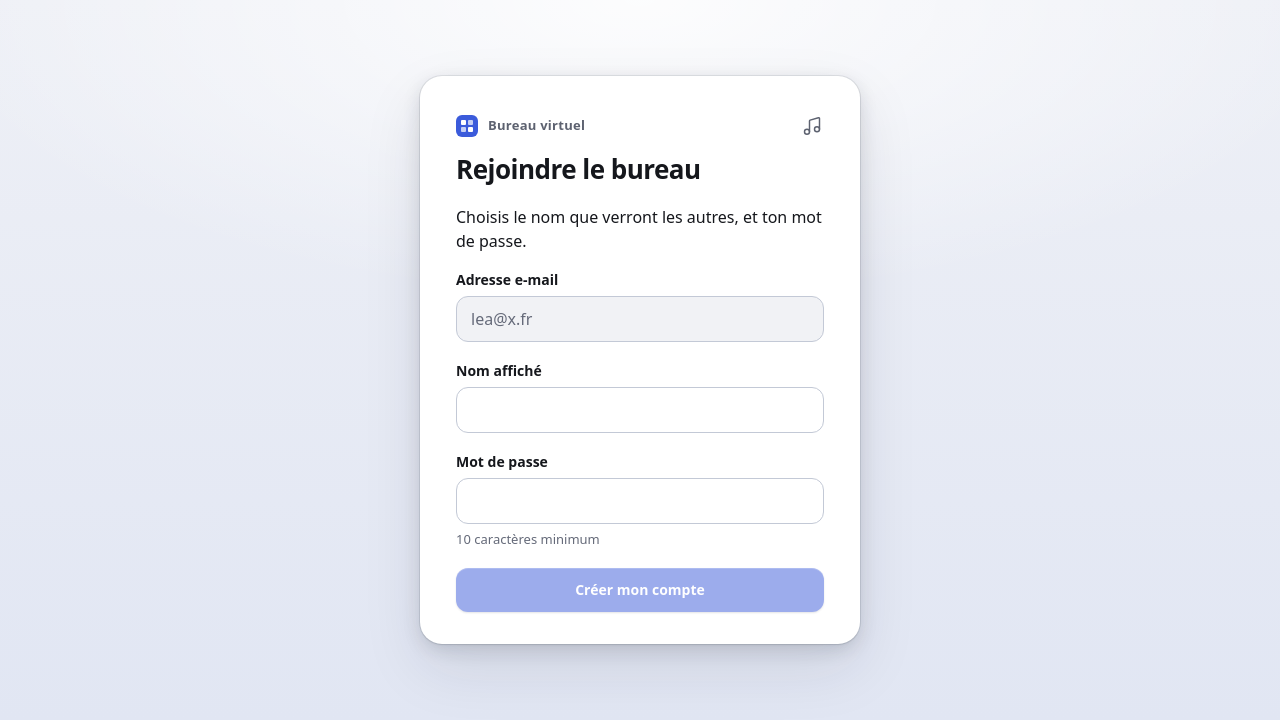
Test case: refus à la création du compte › 410 used (lien utilisé entre-temps, dans un autre onglet) → message fr.join.errors.used
The image size is (1280, 720).
In the field labelled "Nom affiché": (640, 410) [456,387,824,433], type "Léa"
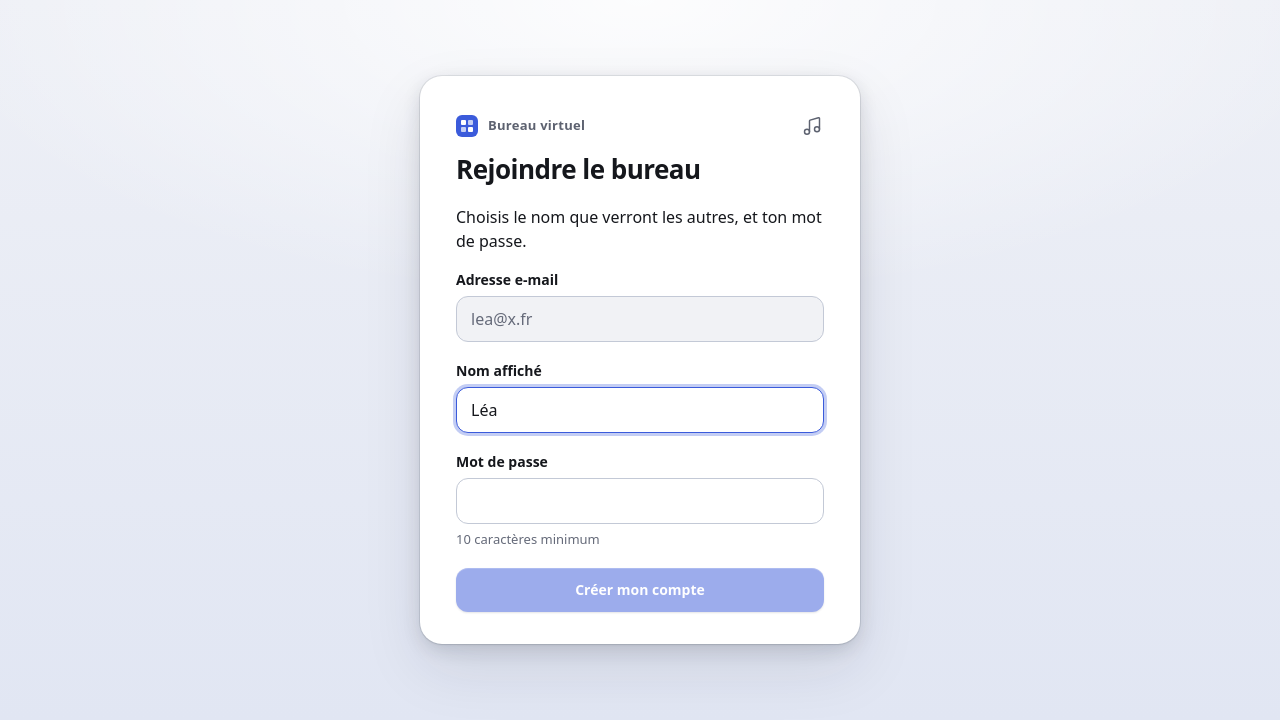
In the password field labelled "Mot de passe": (640, 501) [456,478,824,524], type "motdepasse1"
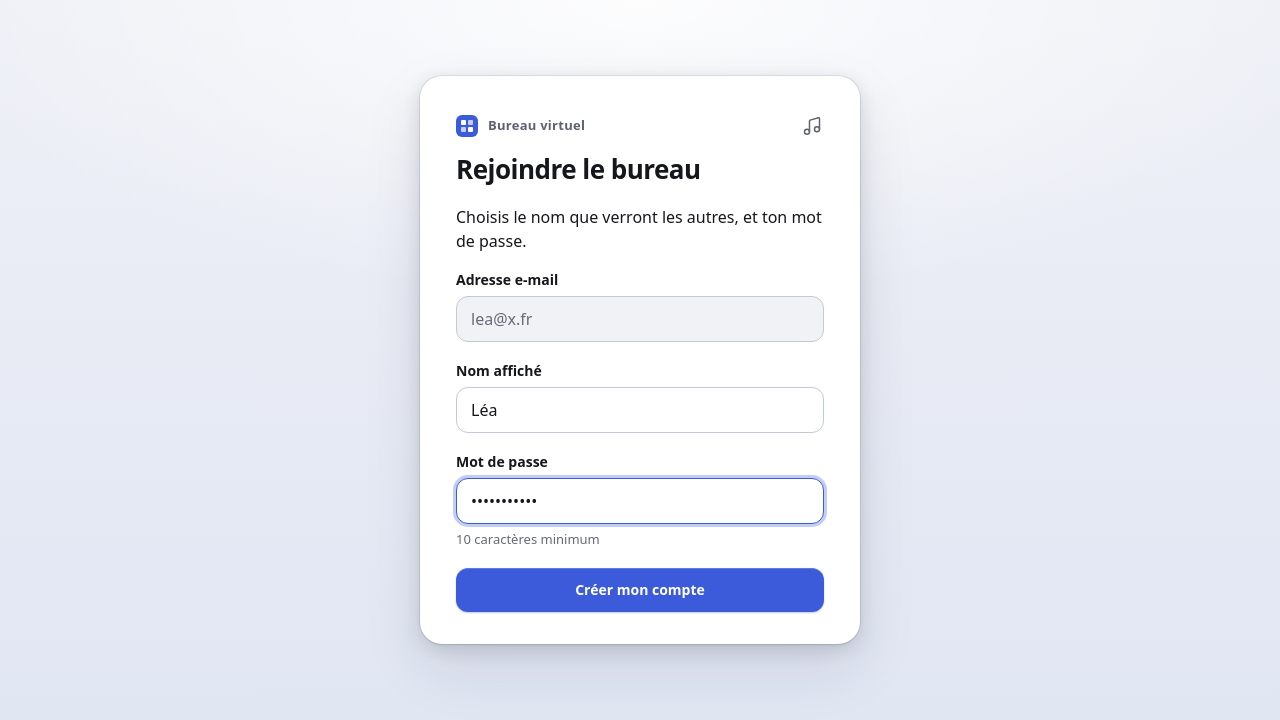
Click the button "Créer mon compte": (640, 590) [456,568,824,612]
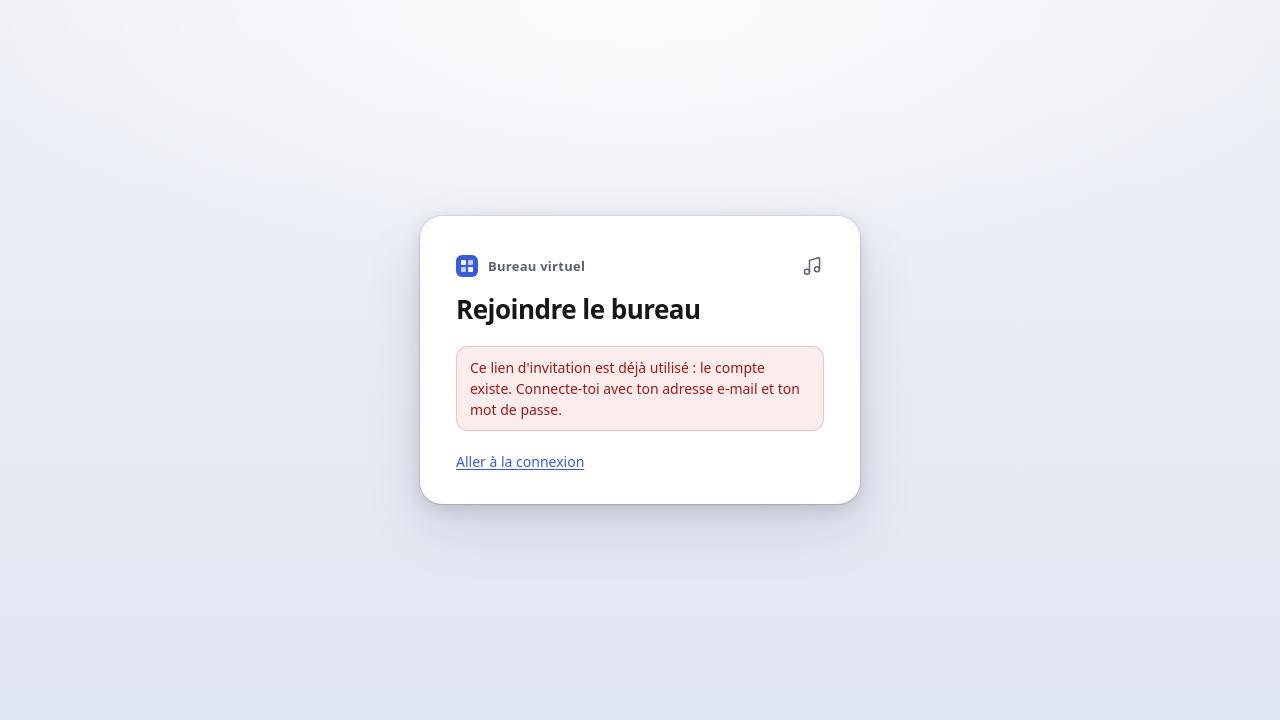
Expected: the field labelled "Mot de passe" is not shown
Now the text "Ce lien d'invitation est déjà utilisé : le compte existe. Connecte-toi avec ton adresse e-mail et ton mot de passe." is shown, box [470,358,800,419]
